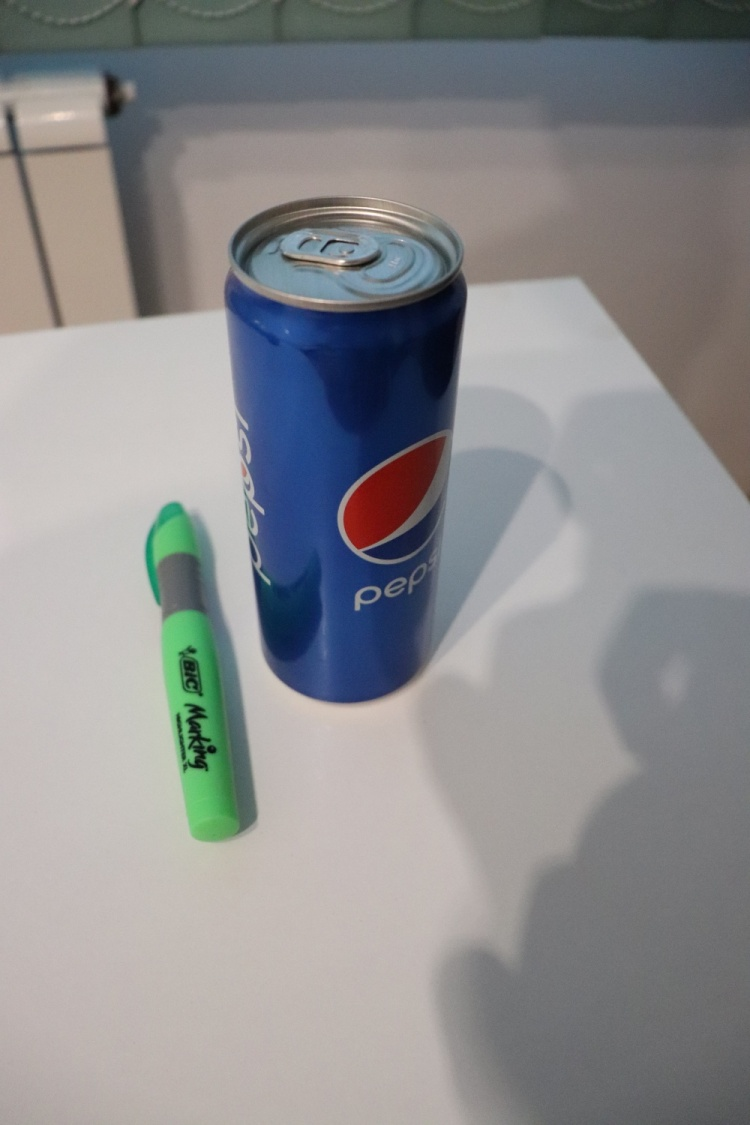pepsi: (224, 193, 473, 716)
